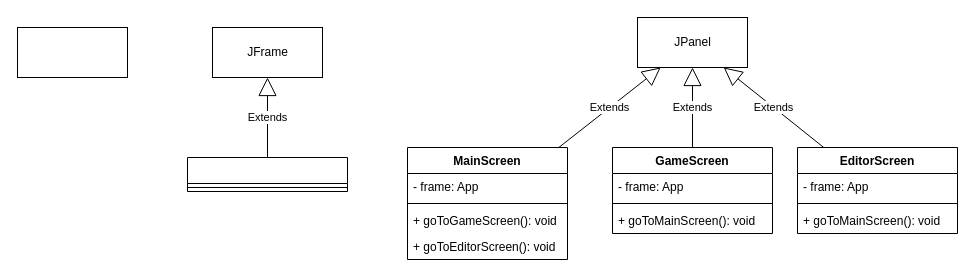
The diagram is 975 pixels wide and 280 high, and some of its shapes have lost their labels. Each missing label, with the centre of its shape:
App: point 267,174
Main: point 72,52
